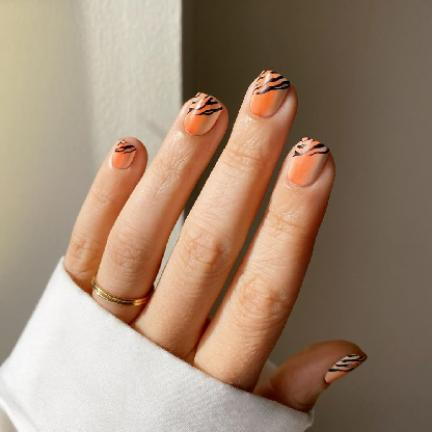Nail: (287, 137, 331, 186), (249, 70, 291, 118), (184, 92, 224, 135), (324, 353, 367, 384), (112, 138, 137, 169)
